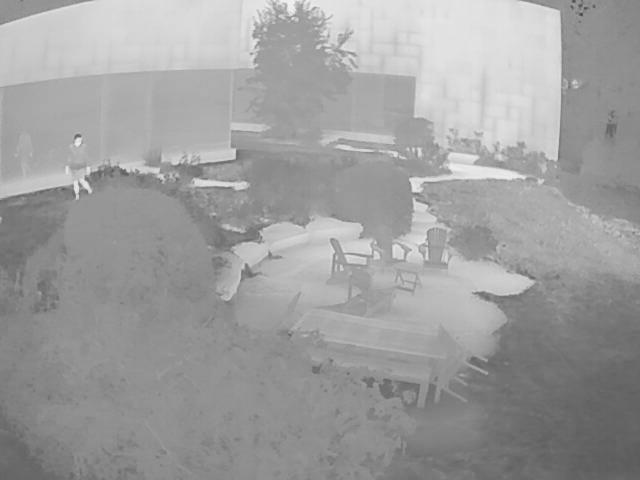person: (66, 132, 92, 202), (13, 124, 37, 183)
